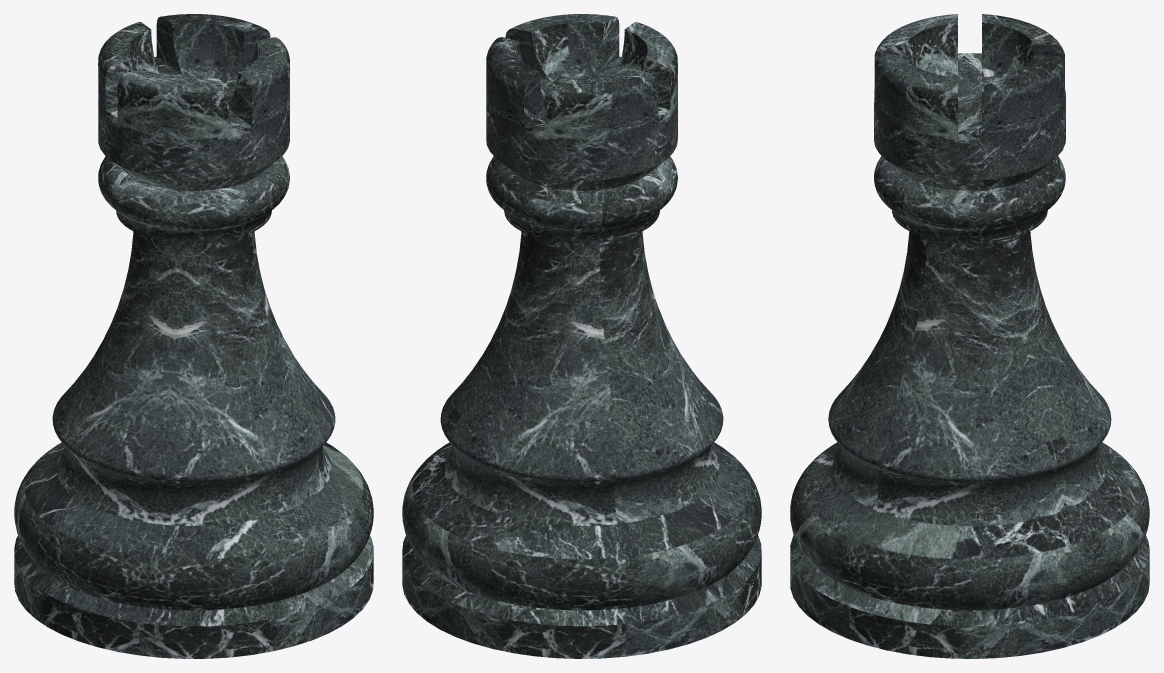
The model's file is Black-Rook.glb.
3 renders of one model, left to right at view 1: azimuth 30°, elevation 25°; view 2: azimuth 150°, elevation 25°; view 3: azimuth 270°, elevation 25°, orthographic.
Visible parts, largest first — view 1: ASSET_Joined; view 2: ASSET_Joined; view 3: ASSET_Joined.
Part boxes in pixels (x1,y1,x2,y2): ASSET_Joined: (14,14,373,658); ASSET_Joined: (402,14,761,658); ASSET_Joined: (790,14,1149,658).
Bounding box in the file's own units: 36.72 × 60 × 36.71.
Materials: 1 (1 with a texture image).
